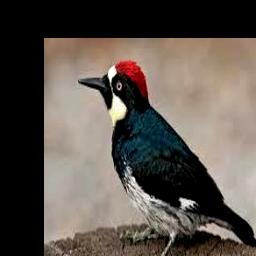Woodpecker: (77, 60, 256, 256)
